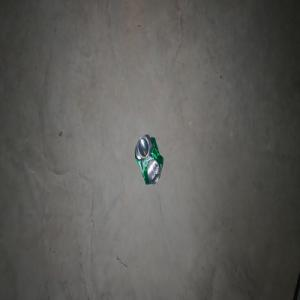SodaCan: (134, 133, 163, 184)
